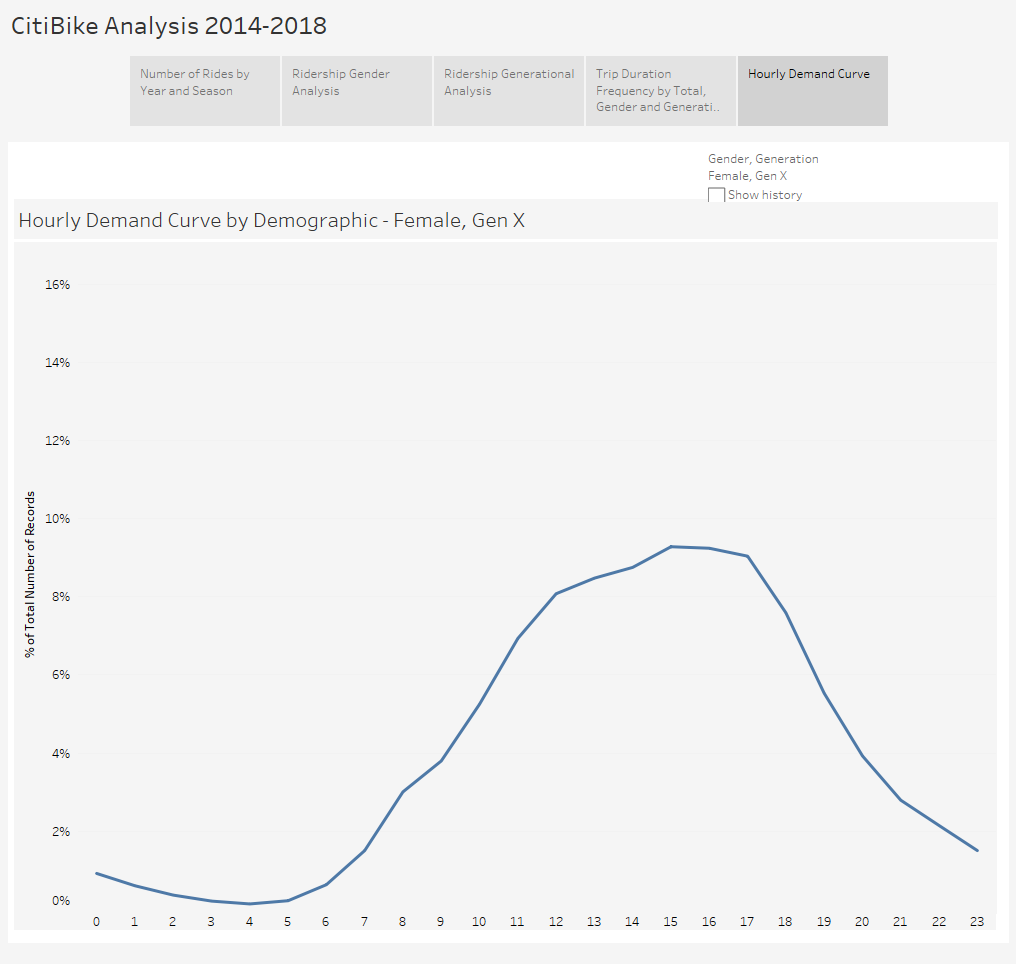

The page's visual inventory and layout, read from the dashboard file:
{"tool":"tableau","page":{"name":"Dashboard 6","canvas":[1000,800],"ordinal":4},"visuals":[{"type":"currpage","title":"Hourly Demand Curve by Demographic","box":[700,7,296,53]},{"type":"worksheet","title":"Hourly Demand Curve by Demographic","mark":"Automatic","rows":["Number of Records"],"cols":["starttime"],"box":[6,57,984,732]}]}

Visuals, with their boxes on the page's 1000x800 design canvas (x1, y1, x2, y2). These are canvas units, not pixel positions in the 1016x964 screenshot, which may show the page scaled, cropped or inside an application window:
"Hourly Demand Curve by Demographic" currpage: locate(700, 7, 996, 60)
"Hourly Demand Curve by Demographic" worksheet: locate(6, 57, 990, 789)
